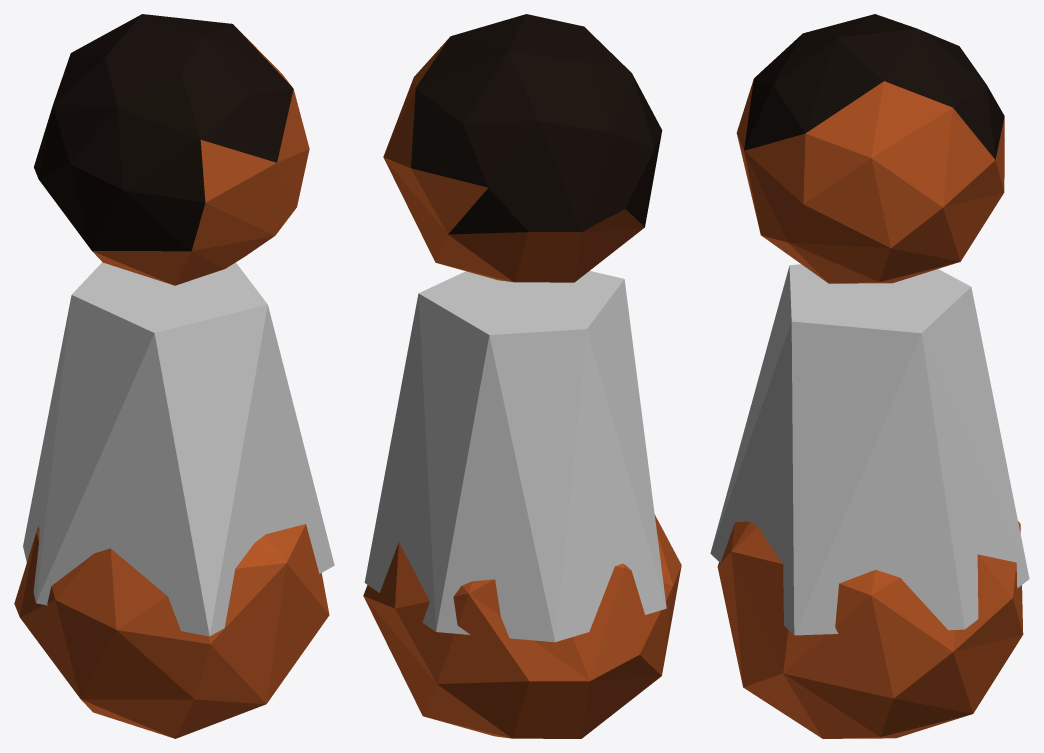
The model's file is person.obj.
3 renders of one model, left to right at view 1: azimuth 30°, elevation 25°; view 2: azimuth 150°, elevation 25°; view 3: azimuth 270°, elevation 25°, orthographic.
Parts seen in each view (by area): view 1: Sphere, Sphere.001; view 2: Sphere, Sphere.001; view 3: Sphere, Sphere.001.
Part boxes in pixels (box(x1,y1,x2,y2)): Sphere: box(14, 262, 334, 738); Sphere.001: box(34, 14, 309, 285); Sphere: box(363, 271, 681, 738); Sphere.001: box(383, 14, 662, 282); Sphere: box(710, 264, 1029, 738); Sphere.001: box(736, 14, 1004, 283).
Bounding box in the file's own units: 2.01 × 4.98 × 2.06.
